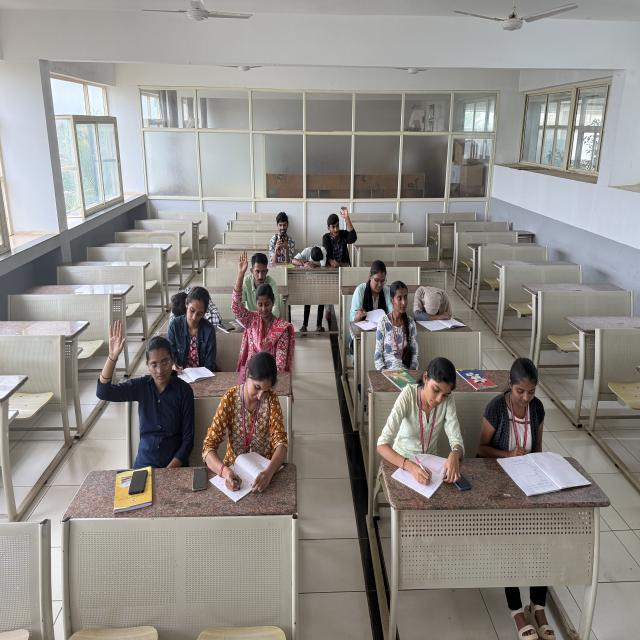Hand Rising: (98, 316, 196, 455), (232, 248, 281, 360), (323, 202, 359, 261)
Reading: (483, 352, 551, 487)
Sleeping: (164, 280, 226, 328), (412, 282, 455, 324), (290, 242, 332, 273)
Using Phone: (267, 208, 294, 262)
Writing: (204, 350, 285, 490), (383, 354, 464, 487), (348, 258, 394, 332)
